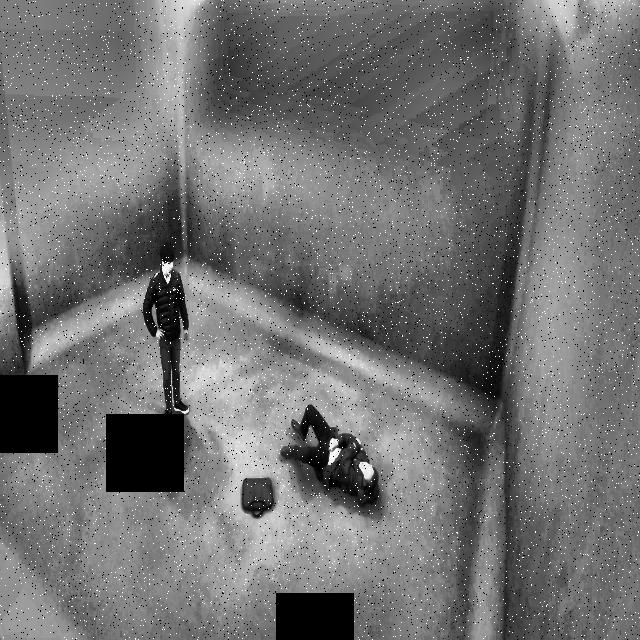assult: (155, 230, 384, 513), (305, 385, 385, 519)
